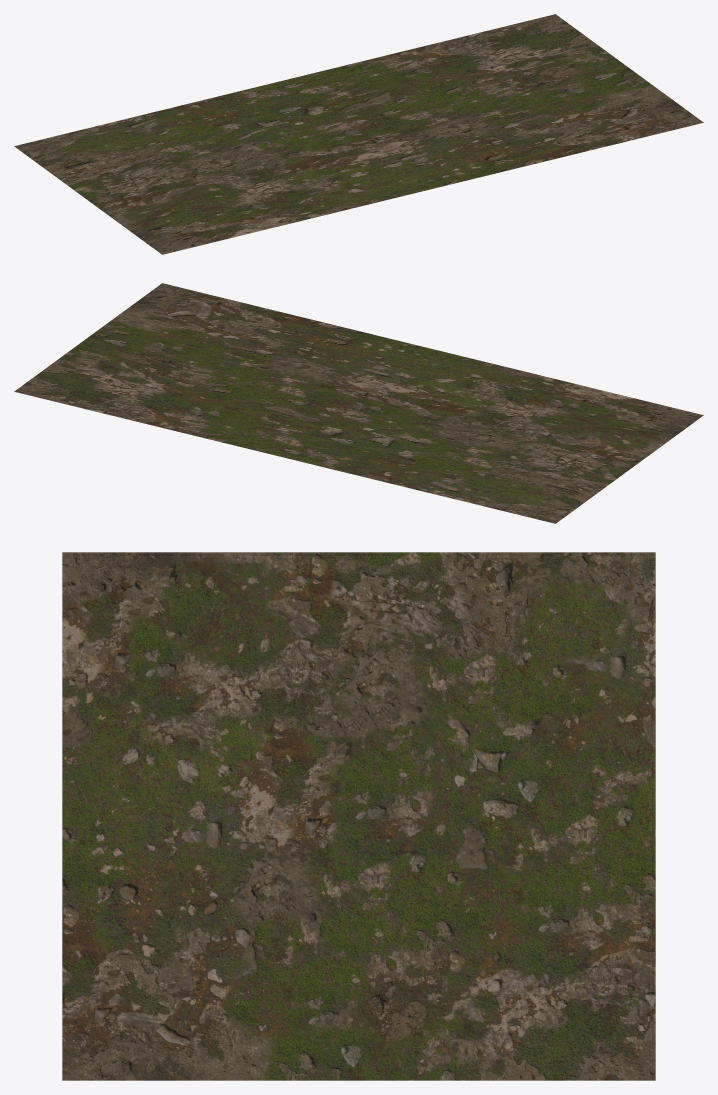
Rendered from BordeDelRio.glb.
3 renders of one model, top to bottom at view 1: azimuth 30°, elevation 25°; view 2: azimuth 150°, elevation 25°; view 3: azimuth 270°, elevation 25°, orthographic. The views are drawn at different scales.
Visible parts, largest first — view 1: Plano; view 2: Plano; view 3: Plano.
Boxes of the visible parts, box(x1,y1,x2,y2) form: Plano: box(14, 14, 703, 254); Plano: box(14, 283, 703, 523); Plano: box(62, 552, 655, 1080).
Size of the model in its own units: 80.25 by 0.7202 by 38.08.
1 material, 1 textured.
